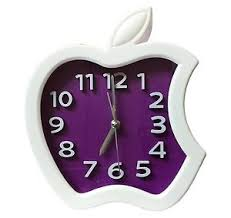alarm_clock: (21, 3, 207, 210), (21, 10, 207, 210), (28, 10, 207, 210)
